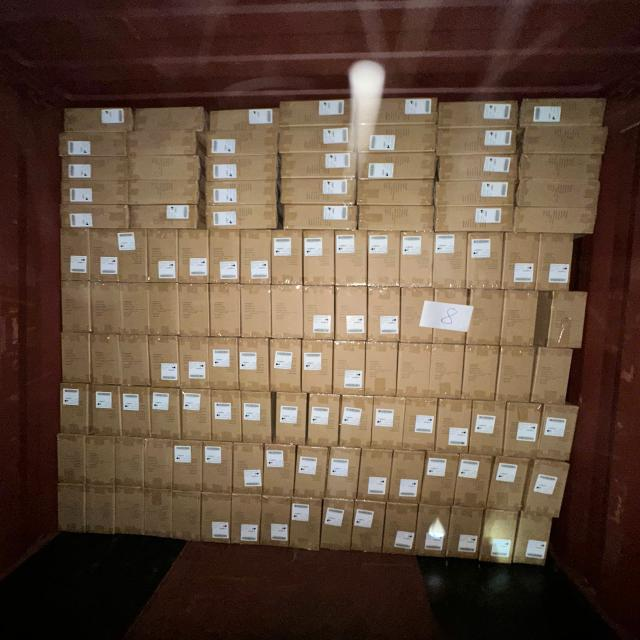Carton: (521, 125, 609, 156), (526, 461, 573, 518), (520, 96, 609, 126), (518, 180, 604, 210), (515, 206, 600, 236), (520, 154, 607, 183), (357, 94, 440, 124), (547, 288, 588, 348), (438, 98, 522, 127), (357, 124, 436, 154), (534, 346, 574, 405), (436, 152, 520, 180), (432, 182, 515, 210), (437, 128, 520, 156), (436, 206, 518, 234), (540, 404, 580, 461), (280, 97, 356, 127), (488, 458, 529, 513), (356, 153, 436, 181), (538, 235, 575, 295), (60, 107, 134, 137), (513, 514, 554, 568), (280, 152, 359, 180), (278, 125, 357, 153), (466, 232, 504, 290), (132, 128, 205, 158), (498, 345, 536, 402), (282, 180, 361, 207), (504, 403, 542, 459), (480, 510, 518, 566), (283, 204, 359, 232), (468, 289, 504, 347), (504, 232, 540, 290), (127, 154, 201, 182), (204, 129, 278, 157), (130, 107, 204, 135), (58, 130, 129, 159), (462, 344, 498, 401), (503, 290, 539, 347), (357, 181, 433, 208), (360, 206, 436, 233), (434, 289, 470, 346), (206, 156, 281, 183), (59, 204, 131, 232), (129, 204, 200, 232), (59, 154, 130, 182), (128, 180, 201, 207), (445, 506, 481, 560), (58, 180, 130, 207), (433, 232, 467, 289), (400, 230, 434, 287), (366, 232, 399, 290), (455, 454, 491, 507), (368, 288, 402, 344), (401, 288, 435, 344), (204, 205, 277, 231), (383, 503, 418, 557), (335, 289, 368, 346), (335, 229, 368, 286), (390, 450, 424, 505), (438, 399, 472, 454), (472, 401, 506, 456), (302, 232, 334, 290), (422, 452, 457, 505), (399, 342, 432, 398), (432, 343, 465, 399), (416, 505, 450, 559), (204, 182, 277, 207), (306, 288, 338, 345), (272, 228, 304, 285), (208, 107, 280, 132), (366, 341, 398, 397), (351, 502, 385, 554), (240, 230, 272, 285), (310, 395, 342, 450), (178, 229, 210, 284), (272, 285, 304, 340), (274, 394, 307, 447), (404, 399, 437, 452), (340, 396, 373, 449), (358, 448, 391, 501), (117, 230, 150, 283), (300, 340, 332, 394), (335, 342, 367, 396), (148, 229, 180, 283), (328, 446, 360, 499), (320, 499, 352, 552), (271, 339, 302, 393), (237, 338, 268, 392), (210, 285, 241, 339), (241, 286, 272, 340), (179, 284, 210, 338), (90, 228, 121, 282), (296, 446, 328, 498), (373, 398, 405, 450), (209, 336, 239, 391), (243, 393, 274, 446), (290, 499, 321, 552), (210, 230, 240, 284), (152, 284, 182, 338), (233, 443, 264, 495), (92, 334, 123, 386), (265, 444, 296, 496), (150, 336, 181, 388), (62, 282, 93, 334), (92, 284, 123, 336), (121, 284, 151, 337), (60, 229, 90, 282), (61, 333, 92, 384), (152, 387, 183, 438), (203, 441, 233, 493), (211, 392, 241, 444), (182, 390, 212, 442), (57, 434, 87, 486), (262, 497, 292, 549), (122, 335, 152, 387), (91, 385, 122, 435), (201, 495, 232, 545), (174, 439, 203, 492), (87, 435, 117, 486), (114, 487, 144, 538), (232, 496, 262, 547), (61, 384, 90, 436), (115, 436, 144, 488), (180, 337, 209, 389), (122, 386, 152, 436), (87, 485, 117, 535), (57, 483, 87, 533), (144, 438, 173, 489), (143, 490, 172, 540), (172, 493, 201, 542)
